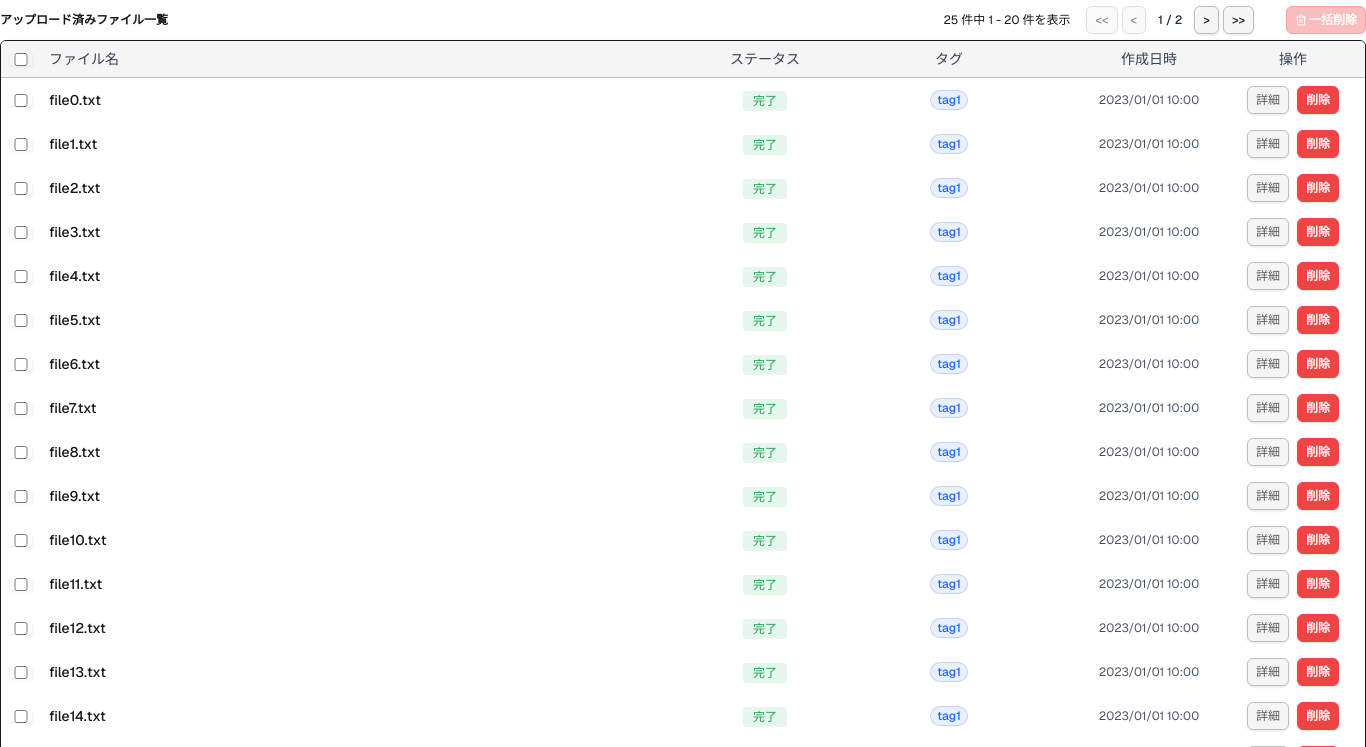
Scenario: DocumentTable › pagination controls work
The width and height of the screenshot is (1366, 747).
Check: the text "1 / 2" is shown, box [1158,12,1182,28]
Check: the text "file0.txt" is shown, box [49,91,101,109]
Click the button ">". click: x=1207, y=20
box: [1194,6,1219,34]
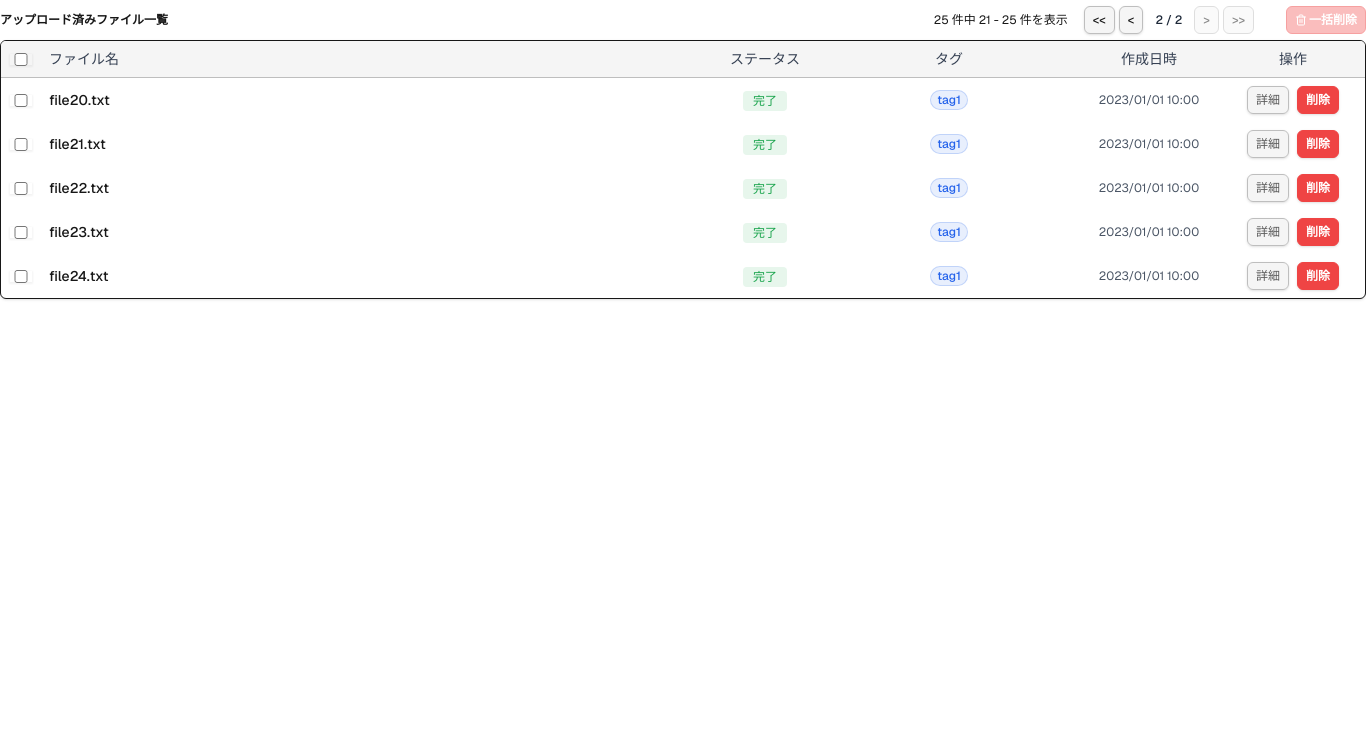
Check: the text "2 / 2" is shown, box [1155,12,1182,28]
Check: the text "file20.txt" is shown, box [49,91,110,109]
